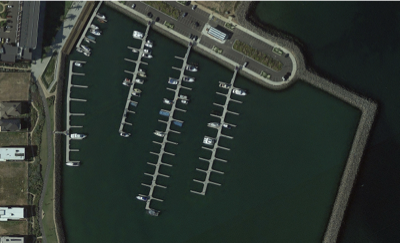boat: (233, 88, 248, 96), (132, 29, 144, 38), (203, 137, 216, 145), (90, 27, 101, 36), (146, 209, 159, 216), (70, 133, 87, 138), (207, 121, 220, 127), (183, 76, 195, 82), (186, 65, 198, 71), (136, 195, 148, 201), (153, 131, 165, 137), (81, 44, 91, 51), (219, 83, 230, 89), (167, 78, 178, 84), (163, 99, 175, 104), (142, 53, 154, 58), (143, 48, 153, 54), (66, 162, 81, 166), (137, 72, 148, 77), (223, 123, 232, 129), (97, 12, 106, 18), (97, 17, 106, 23), (91, 23, 100, 29), (120, 132, 130, 137), (74, 62, 84, 67), (180, 99, 188, 105), (132, 92, 141, 97), (135, 78, 144, 83), (145, 43, 154, 48), (180, 94, 188, 99), (122, 82, 132, 86), (134, 88, 143, 92), (85, 38, 92, 43), (83, 52, 91, 56), (76, 48, 84, 52), (124, 78, 131, 82), (140, 68, 146, 72), (147, 40, 153, 43), (132, 49, 138, 52)
